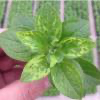Tomato leaf mosaic virus: (50, 60, 83, 98), (36, 3, 63, 48), (16, 30, 51, 55), (58, 36, 97, 58)
